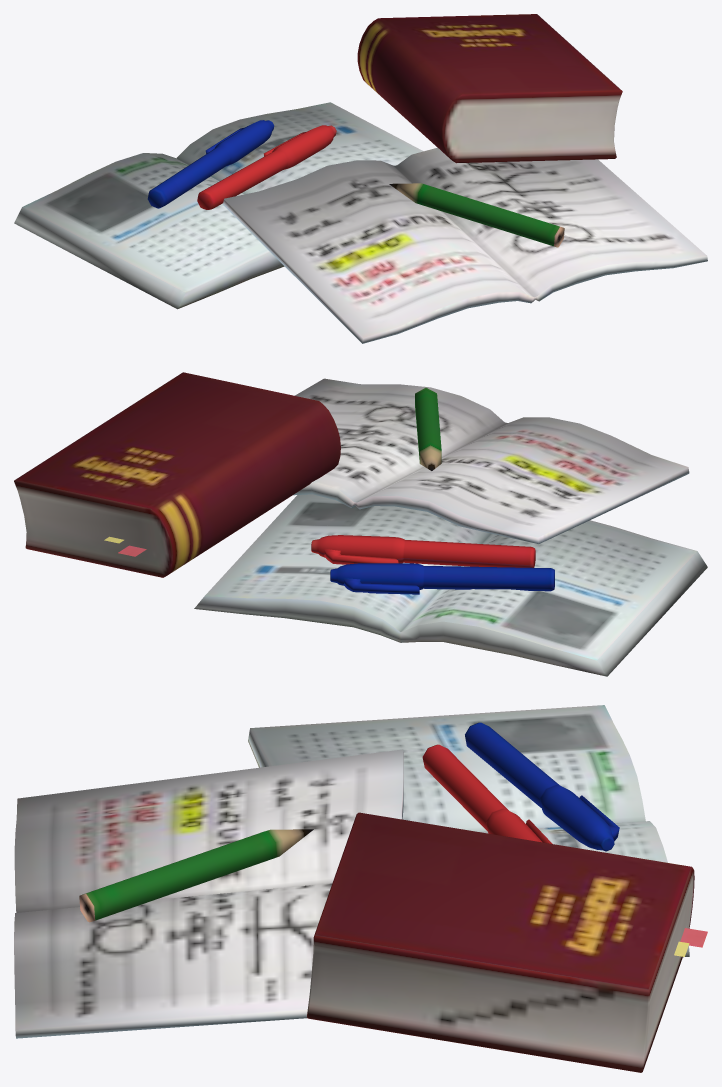
3 views of the same model, one above another, from view 1: azimuth 30°, elevation 25°; view 2: azimuth 150°, elevation 25°; view 3: azimuth 270°, elevation 25° (orthographic). The views are drawn at different scales.
Bounding box in the file's own units: 9.02 × 1.69 × 7.29.
1 material, 1 textured.
